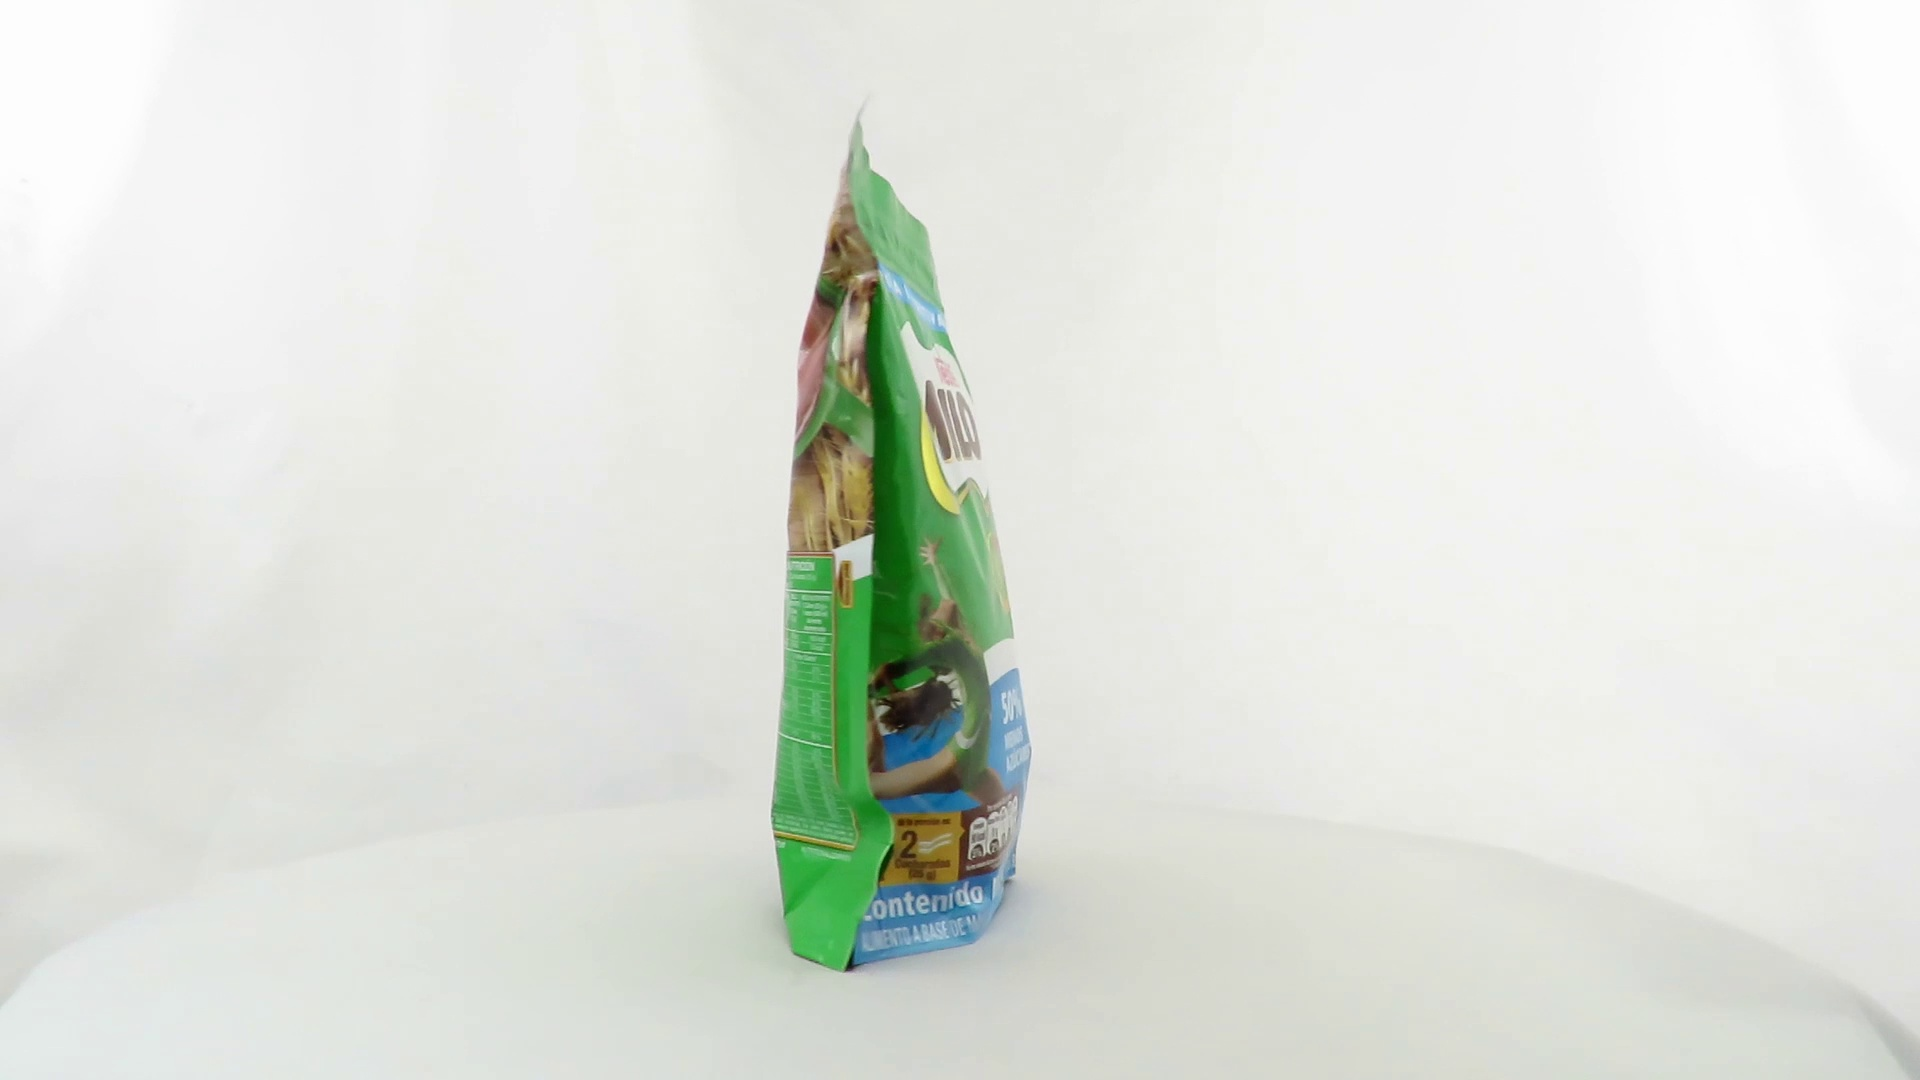COL0170205DYP50000: (765, 84, 1038, 978)
